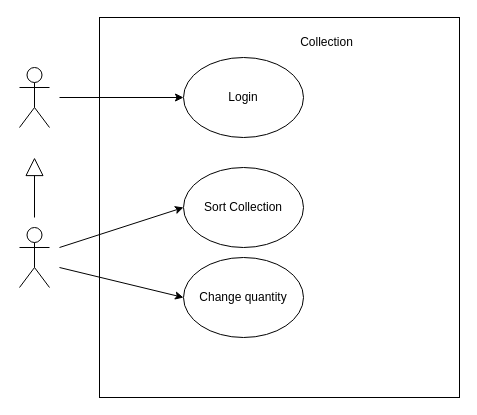
The diagram is 477 pixels wide and 415 high, and some of its shapes have lost their labels. The shapes that lost their labels are listed below. From the top down, each one's centre as x and y in pixels, then its label:
At point 34,97: "Guest".
At point 34,257: "User".
